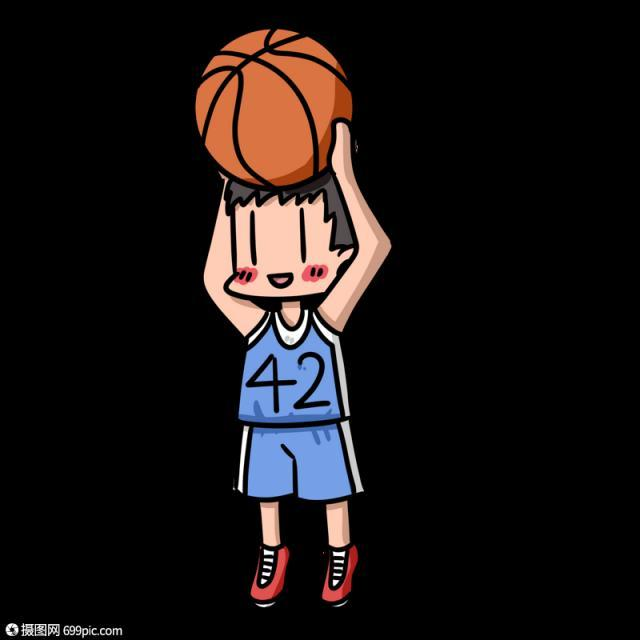rim: (192, 19, 358, 185)
